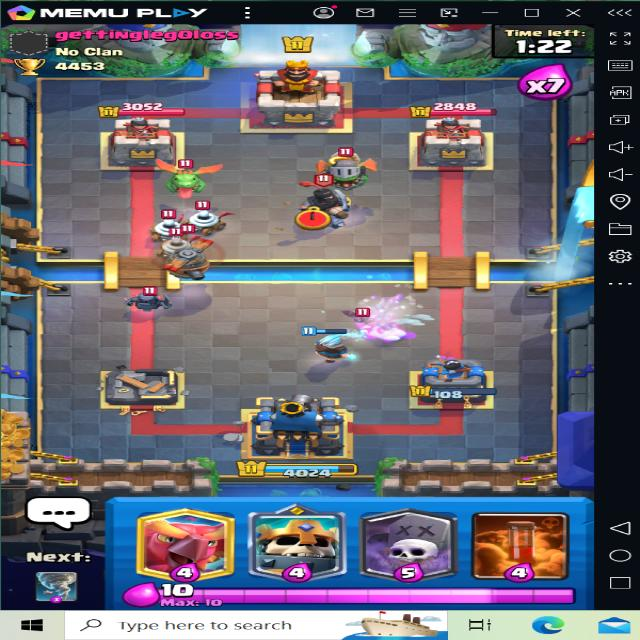baby-dragon: (150, 156, 232, 200)
bats: (339, 308, 380, 327)
dark-prince: (297, 179, 359, 226)
flying-machine: (151, 229, 229, 287)
inferno-dragon: (316, 141, 373, 191)
mini-pekka: (125, 287, 177, 319)
zappie: (143, 206, 195, 239), (156, 229, 205, 262), (183, 204, 229, 232)
